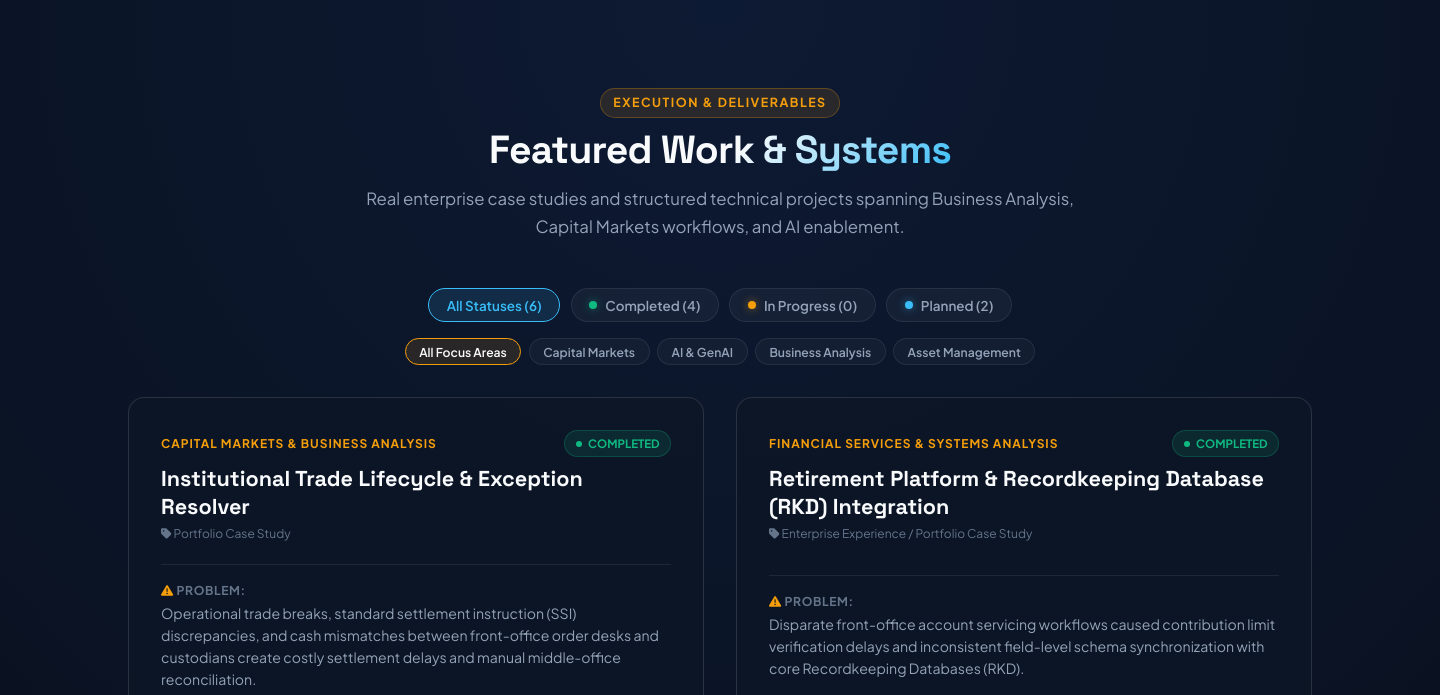
Test: Techno-Functional Portfolio Comprehensive Regression Suite › FeaturedWork Component › renders friendly empty state when no initiatives match filter combination and resets cleanly
What coordinates should you click on to do the following:
click the button "Planned (2)"
I would click on:
 (949, 305)
Its box is [886,288,1012,322].
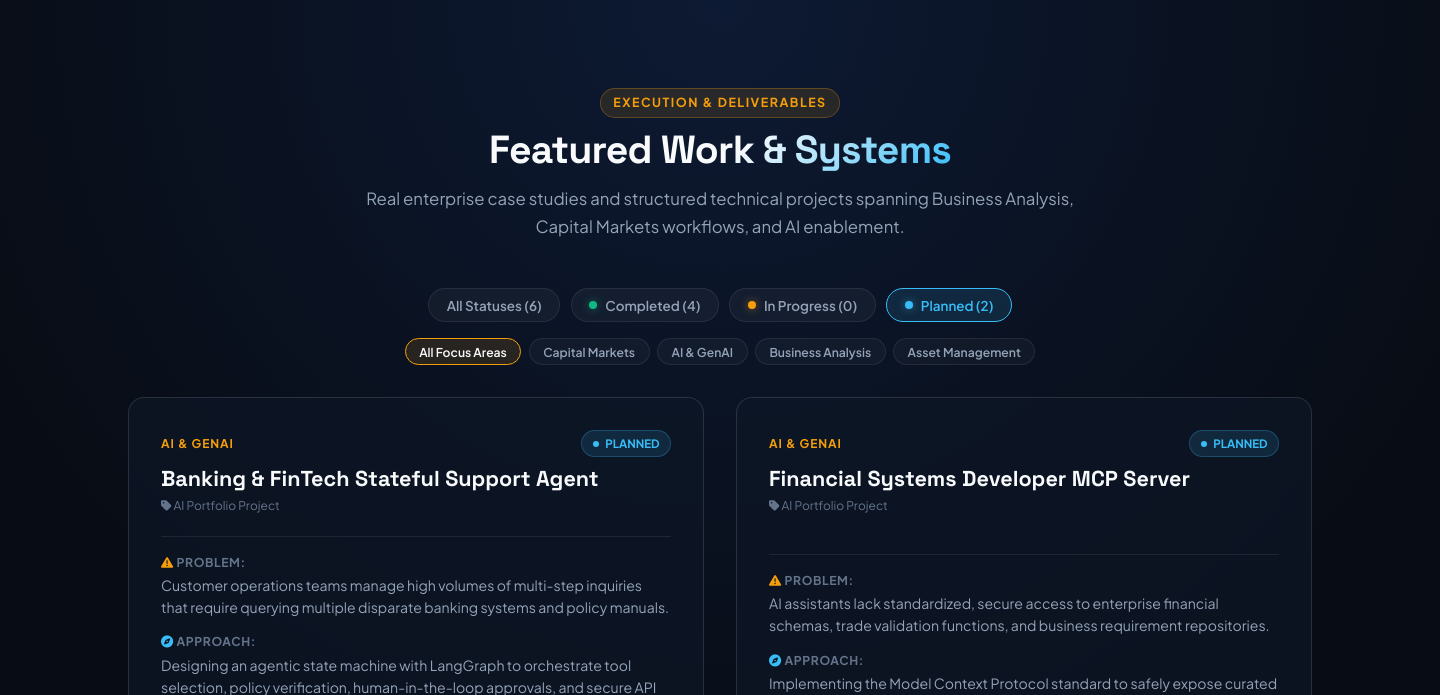
What coordinates should you click on to do the following:
click the button "Capital Markets"
I would click on:
 (589, 352)
Its box is [529,338,650,365].
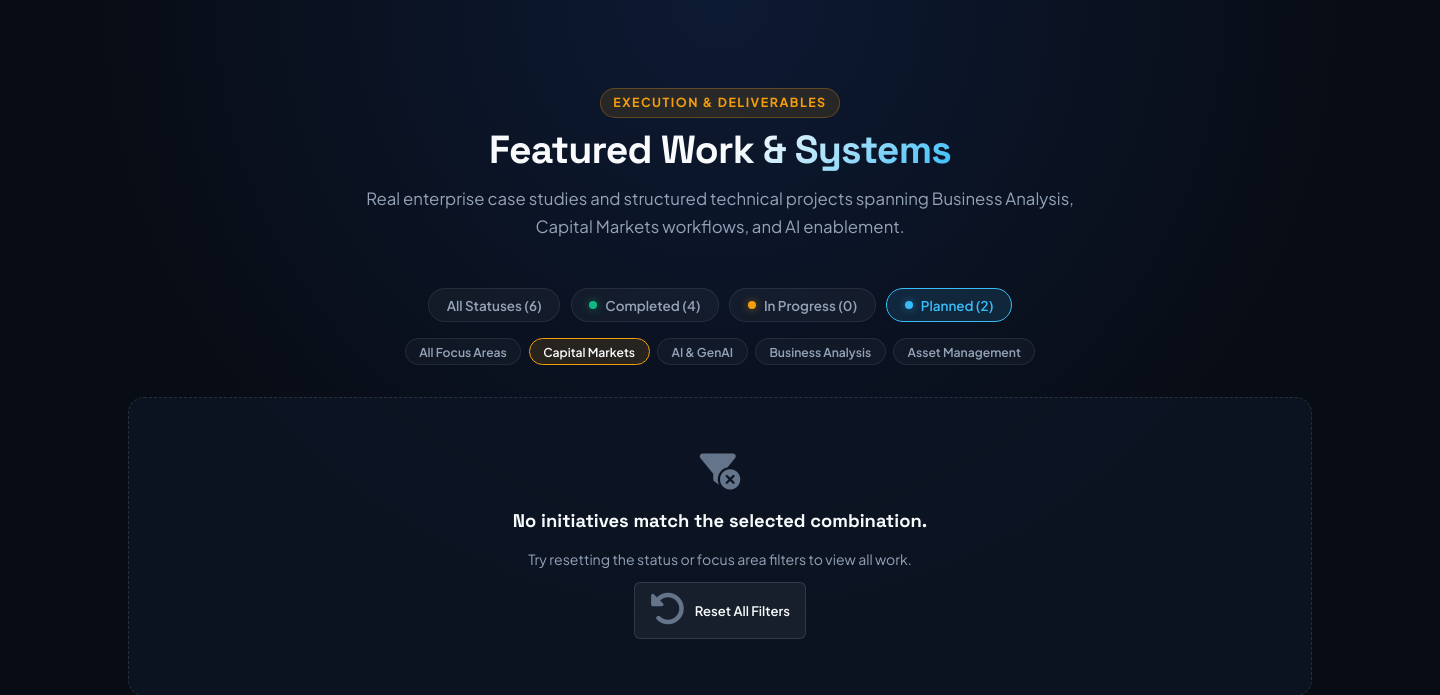
Result: the heading "No initiatives match the selected combination." is shown at [513,506,927,536]
What coordinates should you click on to do the following:
click the button "Reset All Filters"
I would click on:
 (720, 610)
Its box is [634,582,806,639].
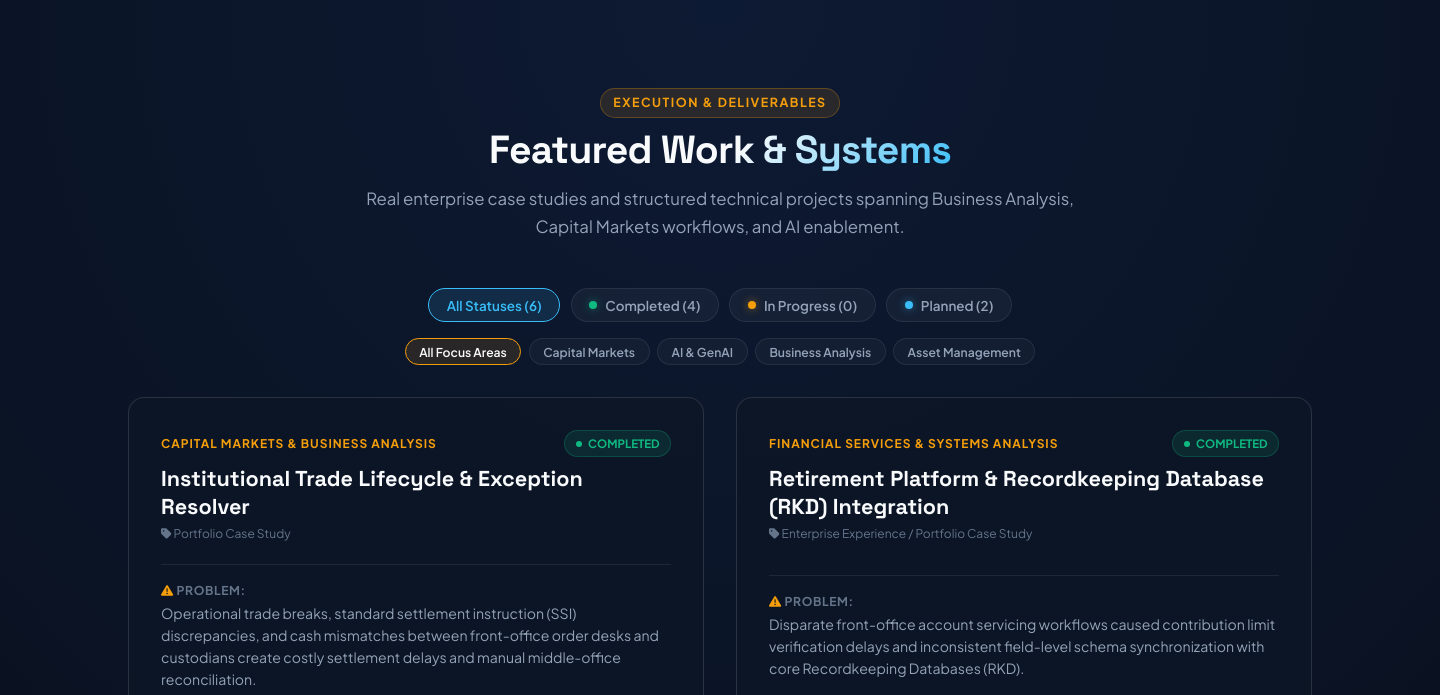
Result: the heading "Institutional Trade Lifecycle & Exception Resolver" is shown at [161,465,583,520]
